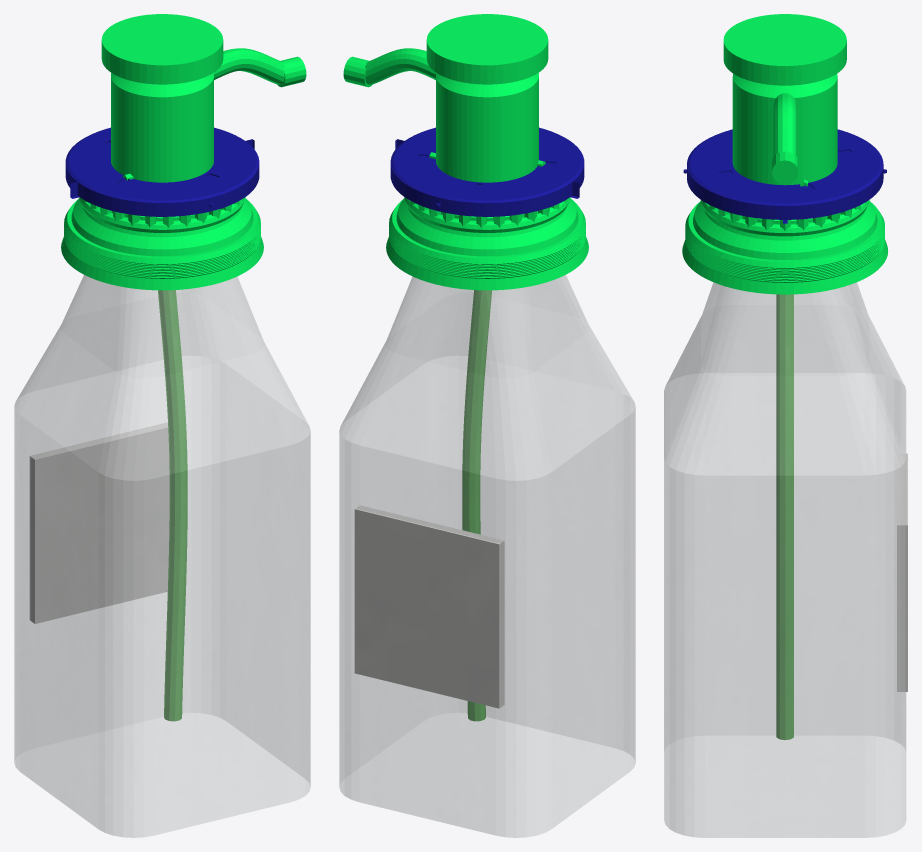
Rendered from Container_Dispenser__0017.glb.
3 renders of one model, left to right at view 1: azimuth 30°, elevation 25°; view 2: azimuth 150°, elevation 25°; view 3: azimuth 270°, elevation 25°, orthographic.
Parts seen in each view (by area): view 1: bottle::bottle_shell, bottle::front_label, pump_head::pump_head_shell, collar::collar_shell, lock_ring::lock_ring_shell, dip_tube::dip_tube, spout::spout_shell; view 2: bottle::bottle_shell, bottle::front_label, pump_head::pump_head_shell, collar::collar_shell, lock_ring::lock_ring_shell, dip_tube::dip_tube, spout::spout_shell; view 3: bottle::bottle_shell, pump_head::pump_head_shell, collar::collar_shell, lock_ring::lock_ring_shell, dip_tube::dip_tube, bottle::front_label, spout::spout_shell.
Part boxes in pixels (box(x1,y1,x2,y2)): bottle::bottle_shell: box(14, 275, 310, 837); bottle::front_label: box(29, 422, 169, 623); pump_head::pump_head_shell: box(101, 14, 223, 182); collar::collar_shell: box(61, 197, 263, 290); lock_ring::lock_ring_shell: box(65, 127, 259, 216); dip_tube::dip_tube: box(158, 290, 187, 721); spout::spout_shell: box(214, 48, 306, 87); bottle::bottle_shell: box(339, 275, 635, 837); bottle::front_label: box(354, 505, 504, 708); pump_head::pump_head_shell: box(426, 14, 548, 182); collar::collar_shell: box(386, 197, 588, 290); lock_ring::lock_ring_shell: box(390, 127, 584, 216); dip_tube::dip_tube: box(462, 290, 491, 721); spout::spout_shell: box(343, 48, 435, 87); bottle::bottle_shell: box(664, 282, 906, 837); pump_head::pump_head_shell: box(723, 14, 846, 186); collar::collar_shell: box(682, 199, 887, 294); lock_ring::lock_ring_shell: box(683, 129, 886, 223); dip_tube::dip_tube: box(776, 294, 793, 739); bottle::front_label: box(897, 453, 907, 691); spout::spout_shell: box(772, 93, 798, 184).
Size of the model in its own units: 0.0915 by 0.2672 by 0.0791.
5 materials, 3 textured.
